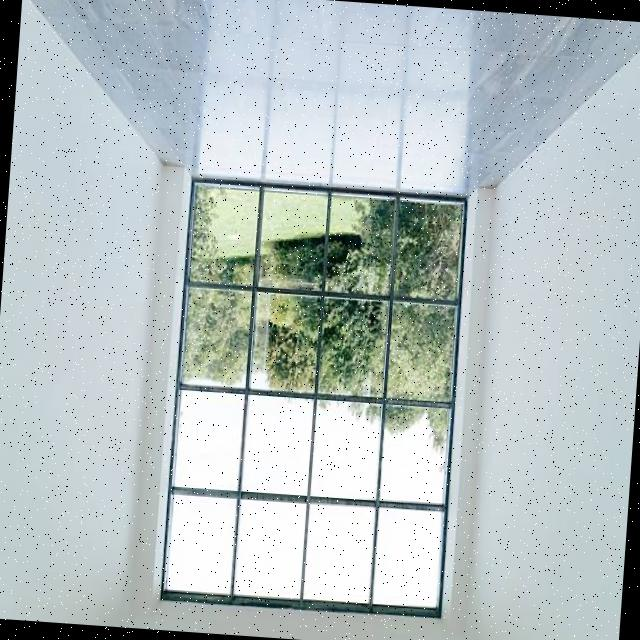Window: (158, 175, 472, 624)
